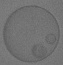small: (32, 45, 46, 58), (45, 35, 56, 45)
